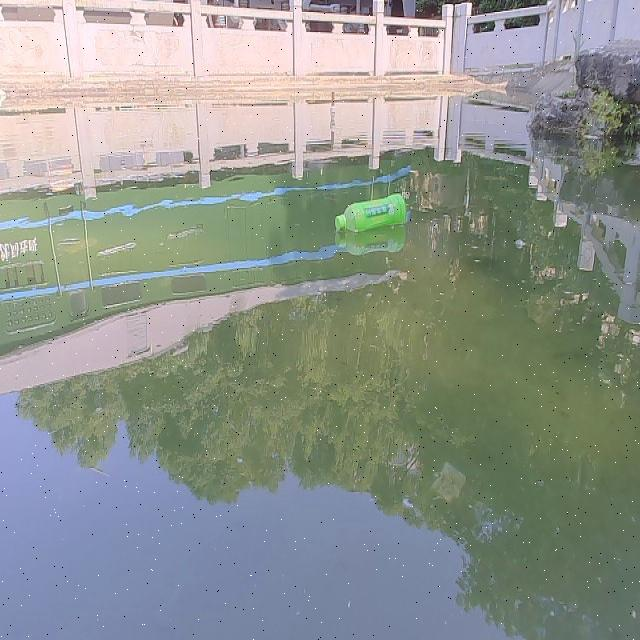bottle: (329, 191, 410, 237)
